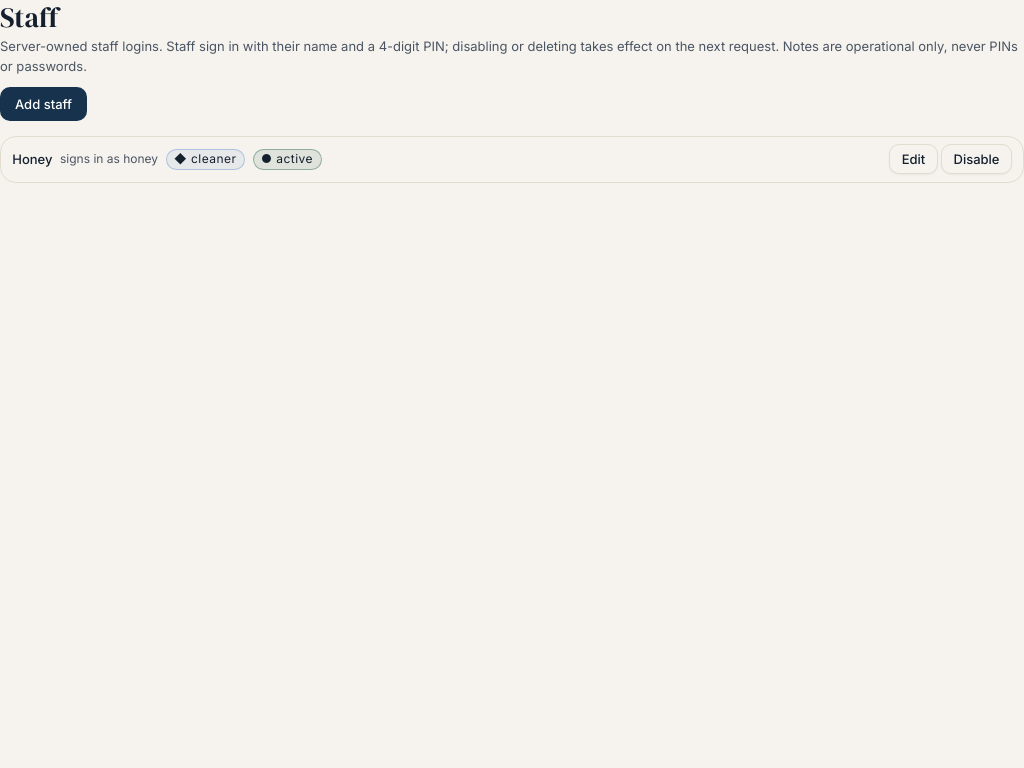
Test: Staff page payment details › shows the payment details for an owner
Click the button "Edit". click: (913, 159)
box: x1=889 y1=144 x2=938 y2=174
(page scrolled)
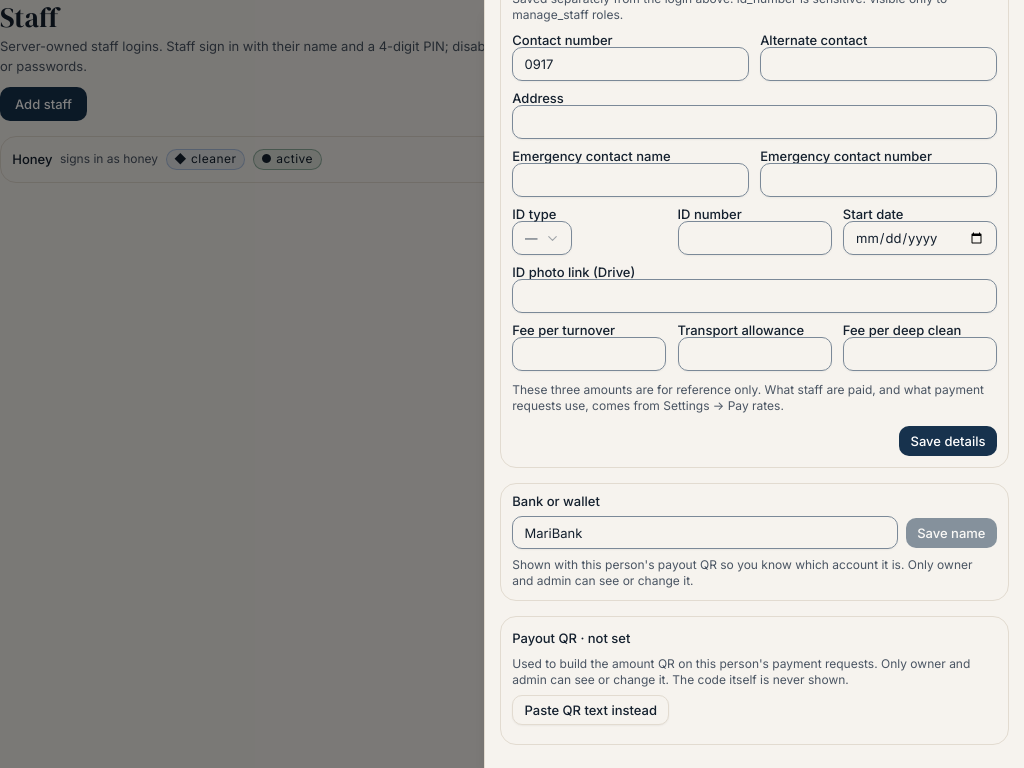
Result: the element with test id "payout-qr-field" is shown at x1=500 y1=616 x2=1009 y2=745
Result: the field labelled "Bank or wallet" holds "MariBank" at x1=512 y1=516 x2=898 y2=549
